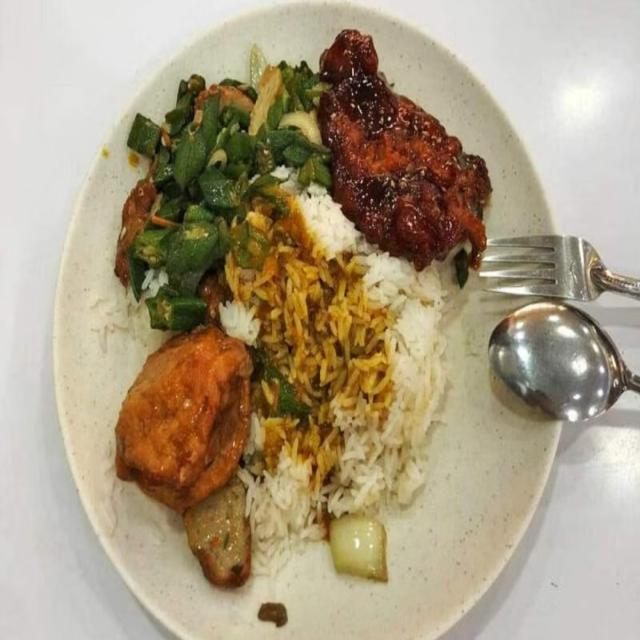Chicken: (318, 29, 492, 269)
Fish: (115, 327, 253, 513)
Green veg: (128, 63, 329, 331)
Rice: (219, 166, 459, 554)
